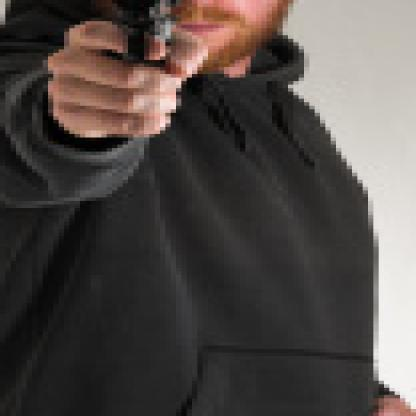gun: (80, 0, 213, 95)
